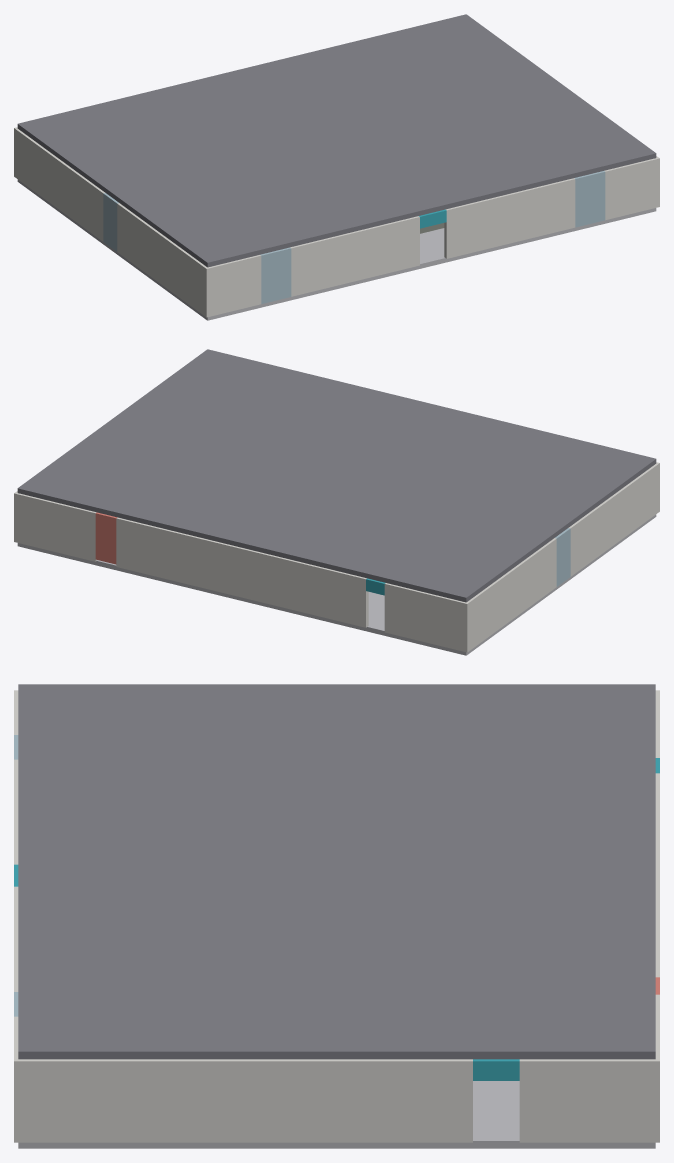
The model's file is clinic_a01.glb.
3 renders of one model, top to bottom at view 1: azimuth 30°, elevation 25°; view 2: azimuth 150°, elevation 25°; view 3: azimuth 270°, elevation 25°, orthographic. The views are drawn at different scales.
Visible parts, largest first — view 1: slab_1_t0_0, slab_1_t0_1, slab_1_t0_3, slab_1_t0_5, slab_1_t0_4, slab_1_t0_2, slab_1_t1_0, slab_1_t2_0, slab_1_t3_0, slab_1_t4_0, slab_1_t4_1, slab_1_t1_2 (+47 smaller); view 2: slab_1_t4_0, slab_1_t4_1, slab_1_t4_3, slab_1_t4_5, slab_1_t4_4, slab_1_t4_2, slab_1_t3_0, slab_1_t0_0, slab_1_t1_0, slab_1_t2_0, slab_1_t0_1, slab_1_t0_2 (+45 smaller); view 3: slab_1_t1_5, slab_1_t3_5, slab_1_t0_5, slab_1_t2_5, slab_1_t4_5, slab_1_t1_0, slab_1_t3_0, slab_1_t1_1, slab_1_t1_2, slab_1_t1_4, slab_1_t3_1, slab_1_t3_2 (+37 smaller).
Part boxes in pixels (x1=…): slab_1_t0_0: x1=169, y1=217, x2=282, y2=267; slab_1_t0_1: x1=244, y1=198, x2=357, y2=249; slab_1_t0_3: x1=394, y1=162, x2=506, y2=212; slab_1_t0_5: x1=544, y1=125, x2=656, y2=175; slab_1_t0_4: x1=469, y1=144, x2=581, y2=194; slab_1_t0_2: x1=319, y1=180, x2=431, y2=230; slab_1_t1_0: x1=131, y1=189, x2=243, y2=239; slab_1_t2_0: x1=93, y1=161, x2=205, y2=211; slab_1_t3_0: x1=55, y1=133, x2=167, y2=183; slab_1_t4_0: x1=17, y1=105, x2=129, y2=155; slab_1_t4_1: x1=92, y1=87, x2=204, y2=133; slab_1_t1_2: x1=281, y1=152, x2=393, y2=198; slab_1_t4_0: x1=391, y1=552, x2=504, y2=602; slab_1_t4_1: x1=316, y1=533, x2=429, y2=584; slab_1_t4_3: x1=167, y1=497, x2=279, y2=547; slab_1_t4_5: x1=17, y1=460, x2=129, y2=510; slab_1_t4_4: x1=92, y1=479, x2=204, y2=529; slab_1_t4_2: x1=242, y1=515, x2=354, y2=565; slab_1_t3_0: x1=430, y1=524, x2=542, y2=574; slab_1_t0_0: x1=544, y1=440, x2=656, y2=490; slab_1_t1_0: x1=506, y1=468, x2=618, y2=518; slab_1_t2_0: x1=468, y1=496, x2=580, y2=546; slab_1_t0_1: x1=469, y1=422, x2=581, y2=468; slab_1_t0_2: x1=394, y1=404, x2=506, y2=449; slab_1_t1_5: x1=145, y1=990, x2=273, y2=1059; slab_1_t3_5: x1=400, y1=990, x2=528, y2=1059; slab_1_t0_5: x1=18, y1=990, x2=145, y2=1059; slab_1_t2_5: x1=273, y1=990, x2=400, y2=1059; slab_1_t4_5: x1=528, y1=990, x2=655, y2=1059; slab_1_t1_0: x1=145, y1=684, x2=273, y2=745; slab_1_t3_0: x1=400, y1=684, x2=528, y2=745; slab_1_t1_1: x1=145, y1=745, x2=273, y2=806; slab_1_t1_2: x1=145, y1=806, x2=273, y2=867; slab_1_t1_4: x1=145, y1=929, x2=273, y2=990; slab_1_t3_1: x1=400, y1=745, x2=528, y2=806; slab_1_t3_2: x1=400, y1=806, x2=528, y2=867.
Size of what is drawn, in the model's own units: 30.3 by 3.7 by 22.3.
